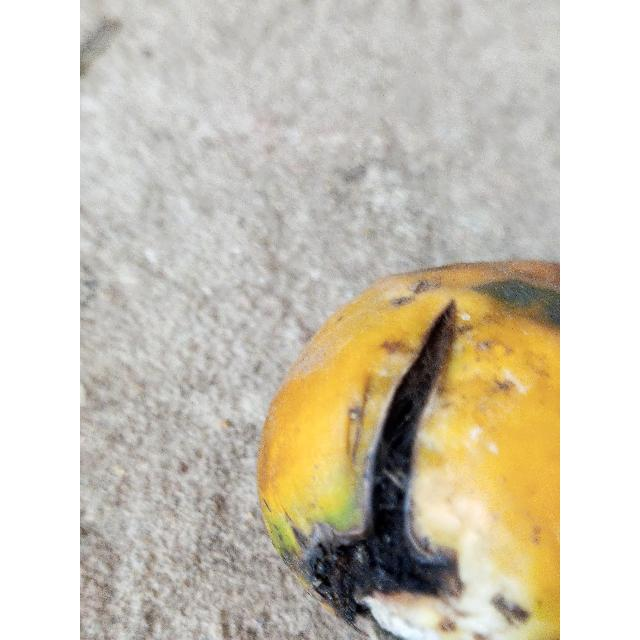damaged: (257, 260, 560, 640)
